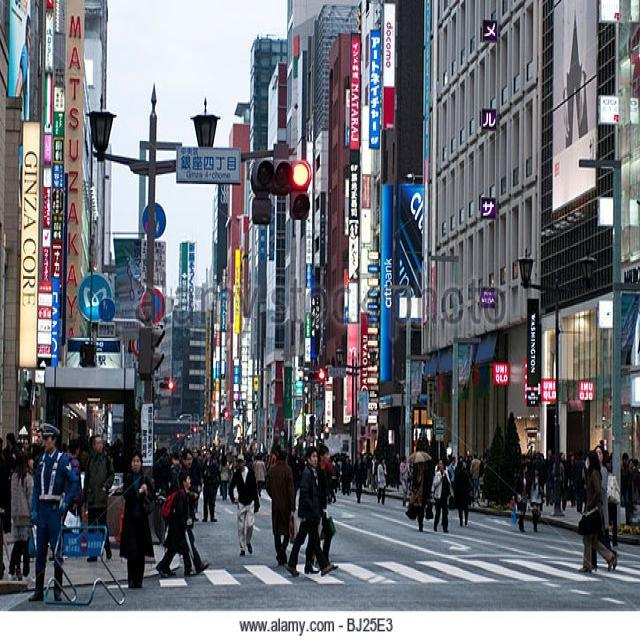body: (24, 420, 77, 604), (283, 443, 340, 580), (161, 447, 211, 578), (117, 447, 156, 593), (154, 469, 204, 577), (153, 466, 200, 580), (577, 448, 618, 576), (82, 432, 115, 566), (6, 449, 37, 584), (263, 446, 297, 568), (589, 443, 619, 574), (226, 452, 261, 556), (317, 443, 341, 575), (522, 443, 552, 508), (404, 455, 429, 532), (619, 446, 640, 532), (198, 448, 221, 524), (63, 438, 85, 516), (432, 456, 453, 535), (604, 462, 623, 549), (453, 459, 472, 528), (550, 447, 567, 518), (529, 469, 545, 535), (515, 460, 529, 534), (0, 436, 6, 580), (351, 451, 366, 504), (565, 448, 578, 508), (18, 434, 39, 469), (166, 450, 188, 483), (103, 437, 123, 473), (217, 452, 231, 501), (375, 454, 388, 506), (76, 428, 91, 472), (397, 453, 409, 506), (224, 446, 236, 499), (254, 453, 268, 498), (154, 444, 185, 464), (364, 452, 379, 493), (242, 449, 275, 467), (598, 438, 615, 472), (196, 442, 224, 462), (560, 450, 569, 512), (469, 452, 481, 496), (329, 454, 339, 505), (340, 455, 352, 496), (475, 452, 486, 496), (432, 453, 453, 475), (390, 447, 401, 485), (3, 432, 19, 458), (362, 450, 372, 491), (344, 456, 354, 493), (332, 453, 341, 493), (191, 444, 205, 469), (447, 456, 457, 490), (458, 453, 473, 475), (55, 439, 68, 457)
